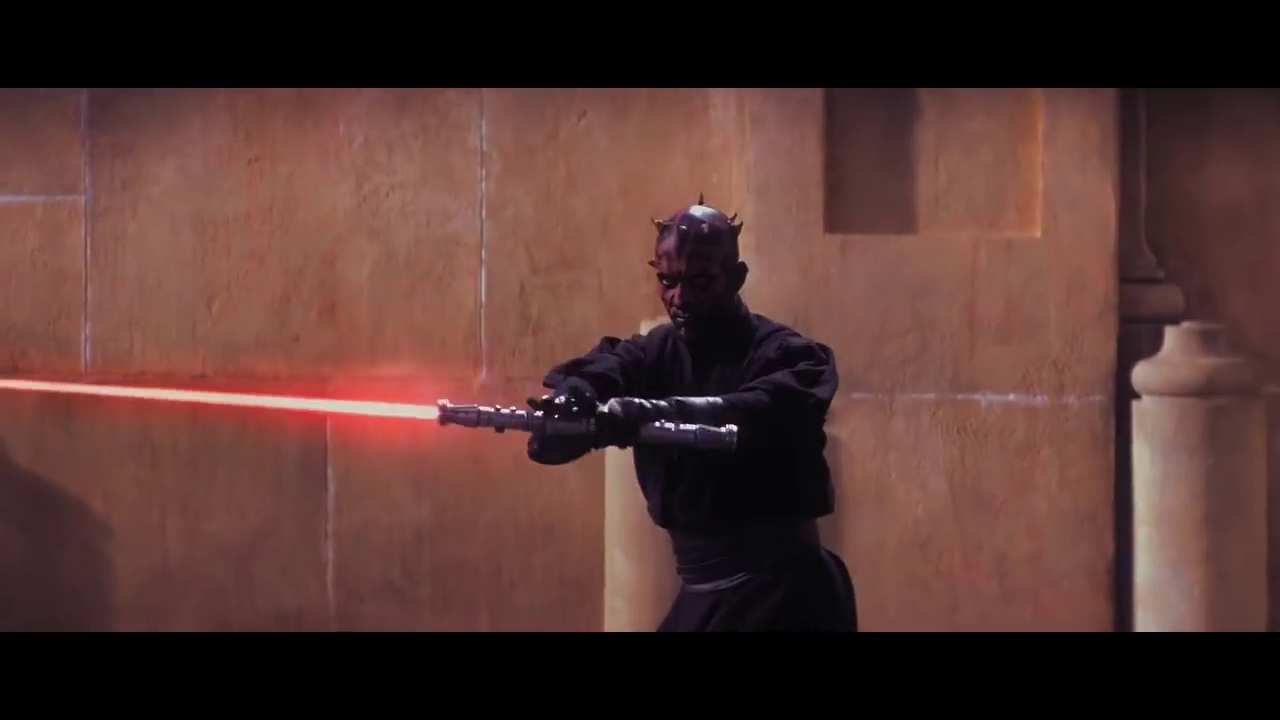lightsaber: (1, 365, 749, 462)
